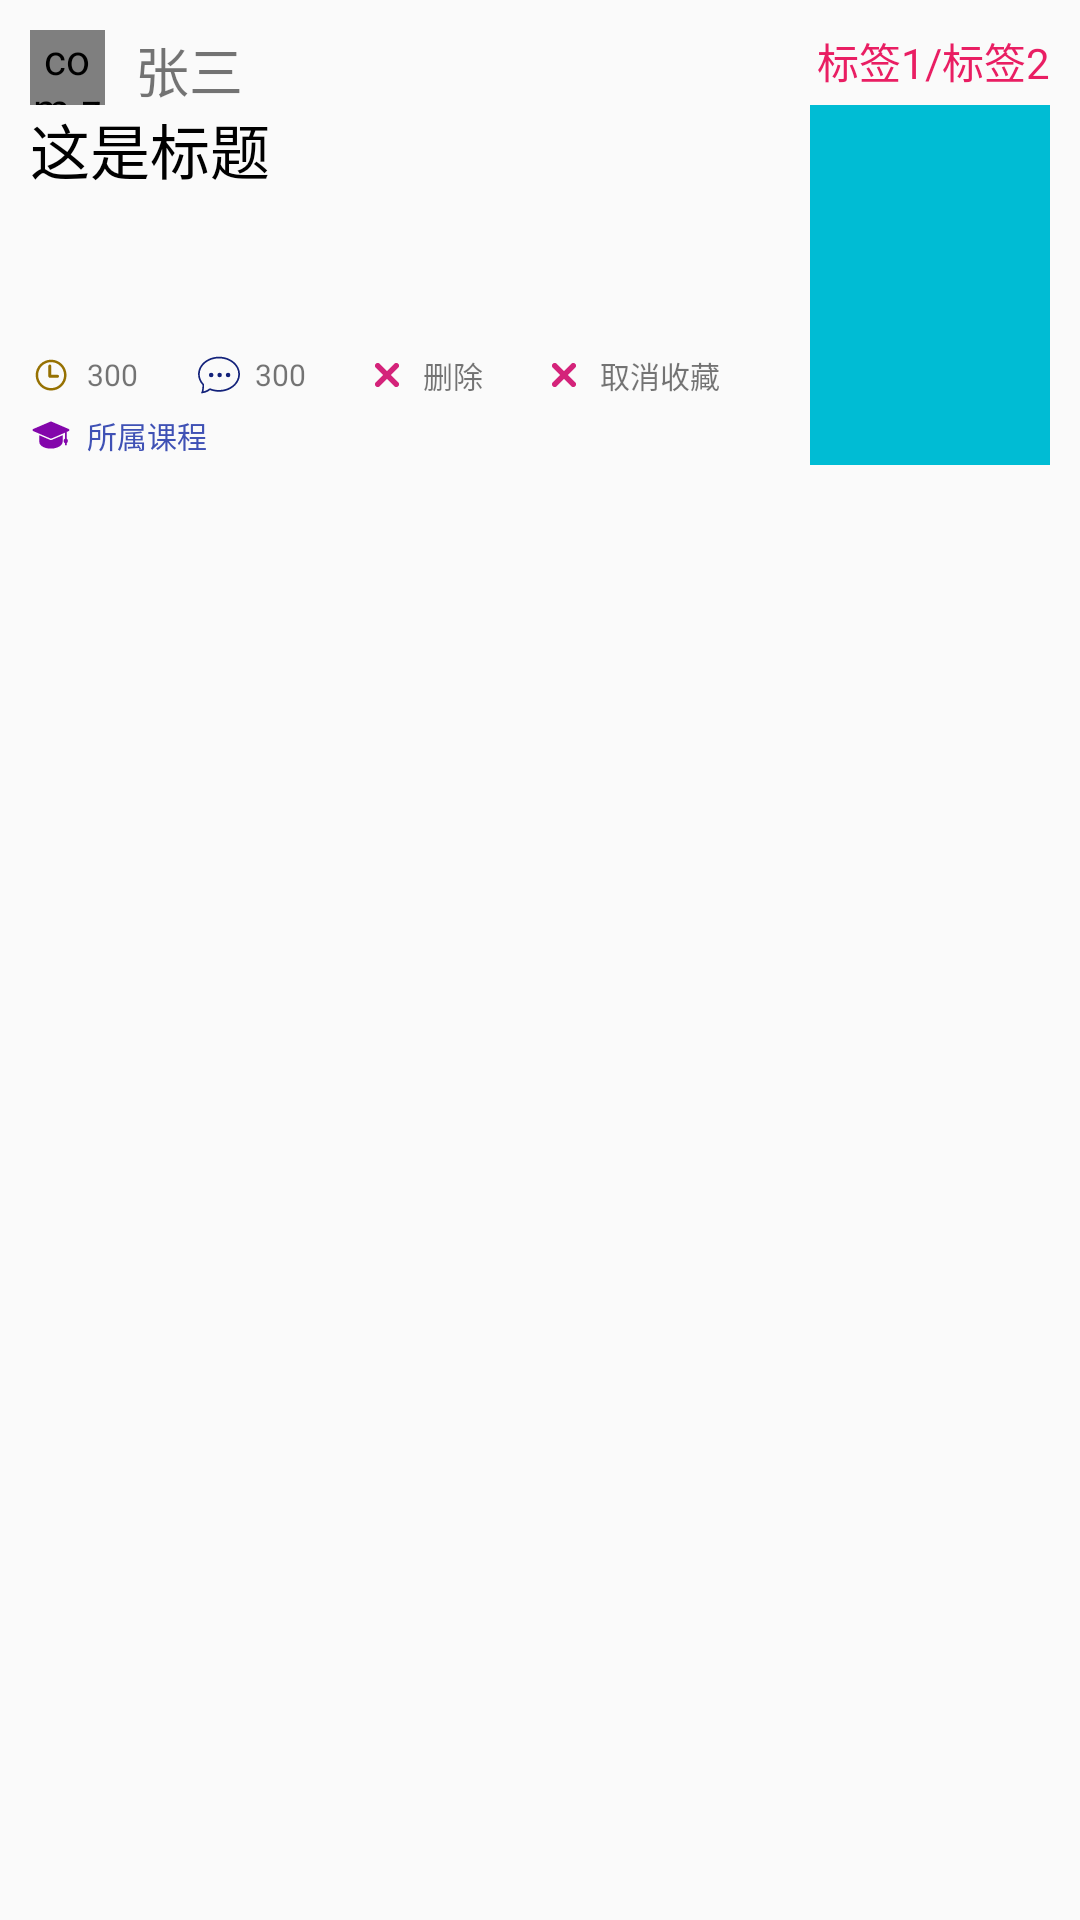

Screen size 1080w x 1920h. Icon name, then its box in pixels as [x1,y1,x2,y2]:
comments: [198,356,240,394]
major: [32,421,70,449]
time: [35,359,67,391]
